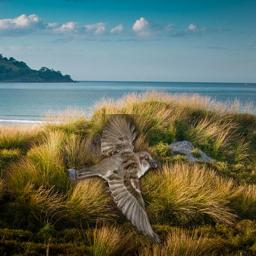Sparrow: (75, 114, 162, 244)
